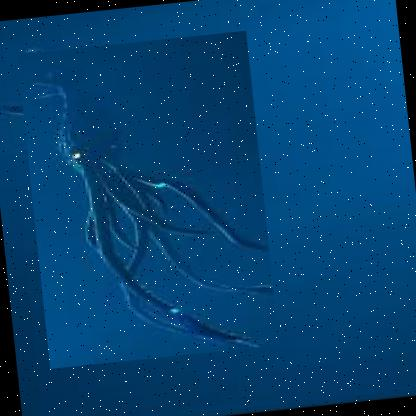colossal_squid: (15, 31, 278, 370)
